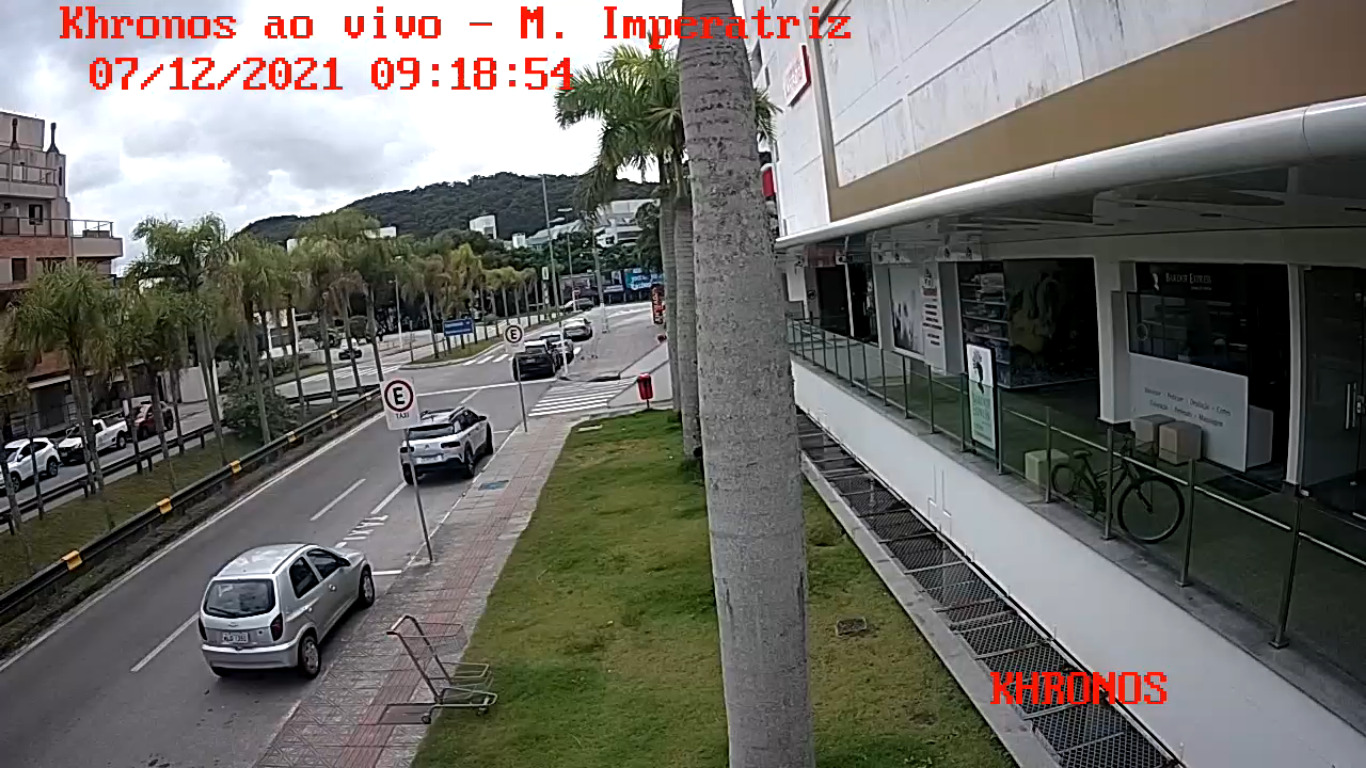car: (198, 544, 377, 681), (401, 407, 494, 484)
